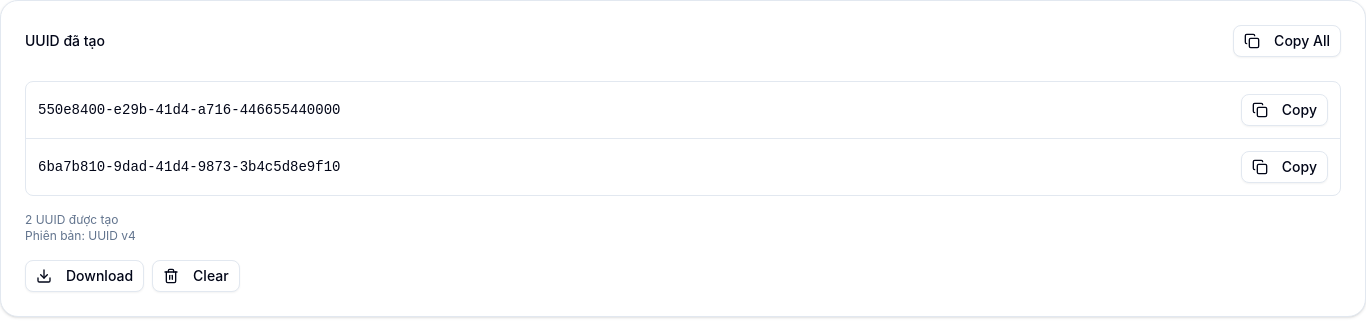
Test: ResultsPanel › copies a single UUID and shows a temporary confirmation
Click the button "Copy" in the row of "550e8400-e29b-41d4-a716-446655440000" at (1284, 110), box [1241, 94, 1328, 126]
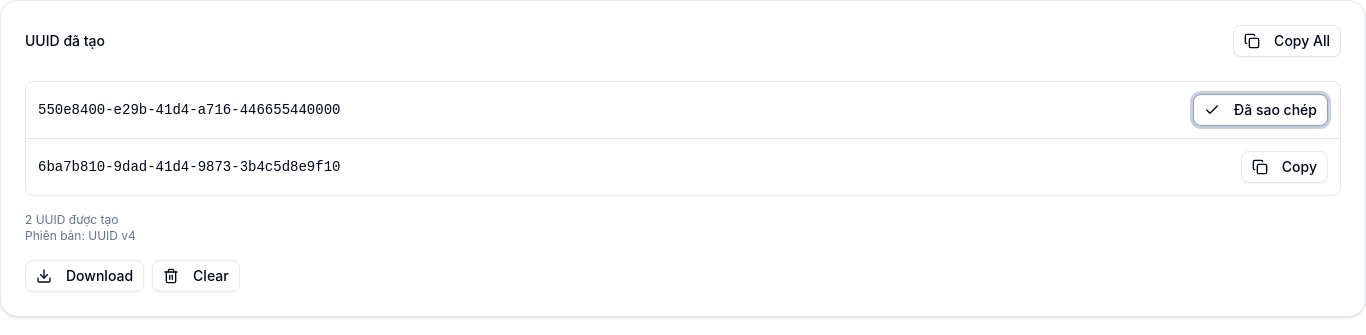
Expected: the text "Đã sao chép" is shown, [1234, 100, 1317, 120]
